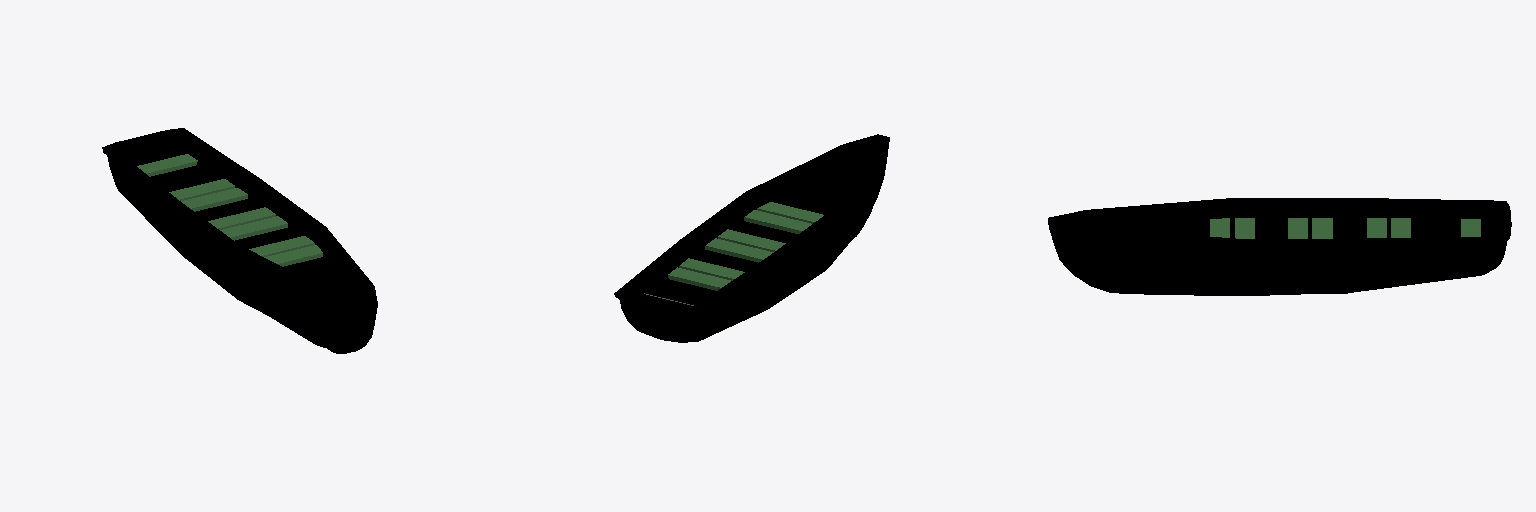
File: Boat.obj
3 views of the same model, side by side, from view 1: azimuth 30°, elevation 25°; view 2: azimuth 150°, elevation 25°; view 3: azimuth 270°, elevation 25° (orthographic).
Visible parts, largest first — view 1: Boat_Body Scene, textureEditorIsolateSelectSet Boat_Body Scene, Scene Boat_Seats; view 2: Boat_Body Scene, textureEditorIsolateSelectSet Boat_Body Scene, Scene Boat_Seats; view 3: Boat_Body Scene, textureEditorIsolateSelectSet Boat_Body Scene, Scene Boat_Seats.
Part boxes in pixels (x1,y1,x2,y2): Boat_Body Scene: (107,137,377,353); textureEditorIsolateSelectSet Boat_Body Scene: (102,128,377,310); Scene Boat_Seats: (137,154,322,266); Boat_Body Scene: (619,134,888,342); textureEditorIsolateSelectSet Boat_Body Scene: (614,134,889,316); Scene Boat_Seats: (644,202,823,305); Boat_Body Scene: (1048,204,1506,295); textureEditorIsolateSelectSet Boat_Body Scene: (1048,198,1511,248); Scene Boat_Seats: (1210,218,1480,238).
Size of the model in its own units: 3.86 by 2.73 by 16.15.